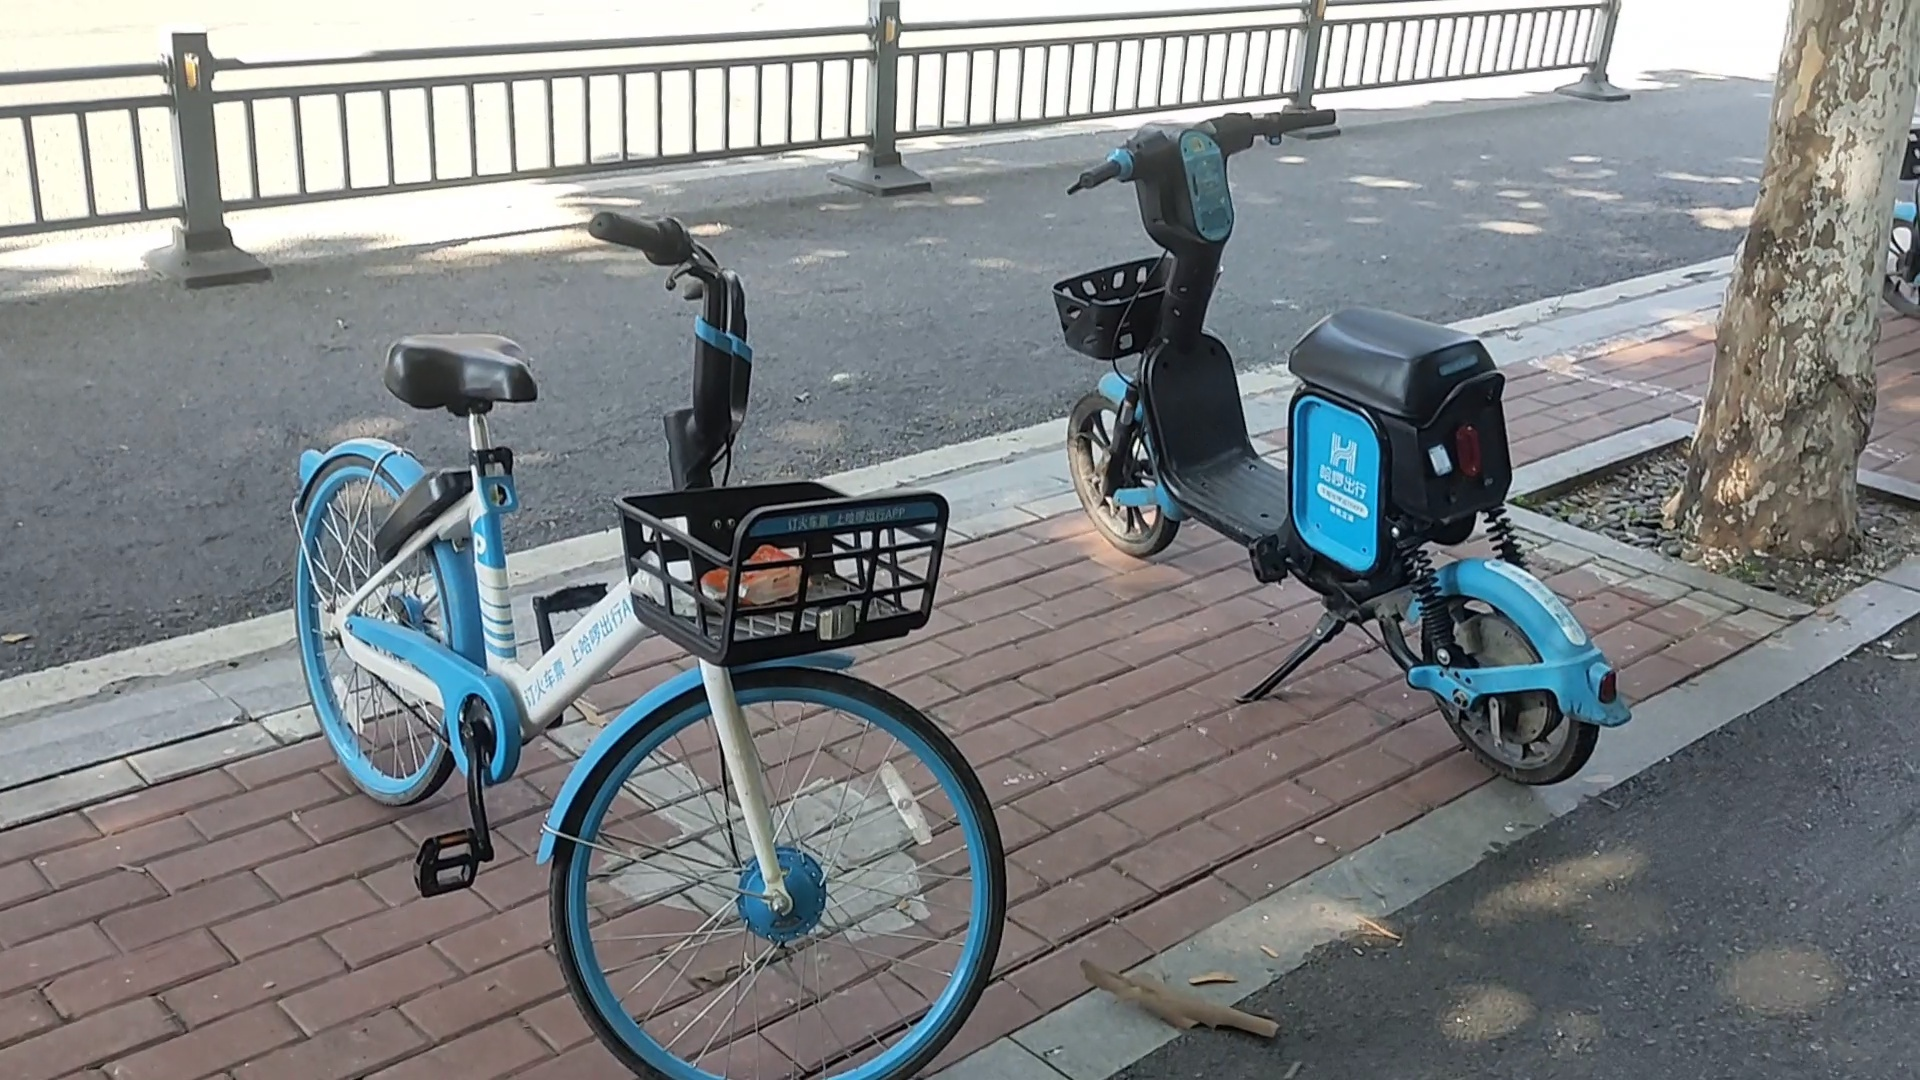non-vehicle: (289, 164, 994, 1056), (1044, 90, 1625, 802)
